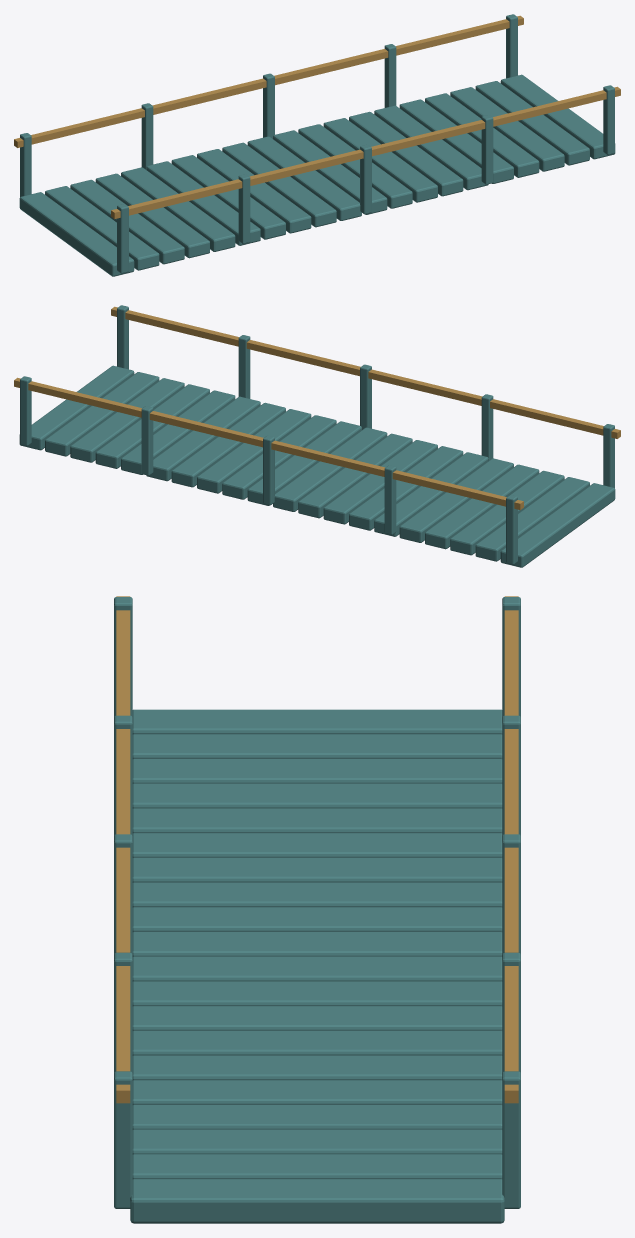
File: bridge_refined.glb
The picture shows the model from 3 angles, top to bottom: view 1: azimuth 30°, elevation 25°; view 2: azimuth 150°, elevation 25°; view 3: azimuth 270°, elevation 25°; orthographic projection. The views are drawn at different scales.
Visible parts, largest first — view 1: bridge_refined; view 2: bridge_refined; view 3: bridge_refined.
Part boxes in pixels (<box>): bridge_refined: <box>14,14,620,276</box>; bridge_refined: <box>14,305,620,567</box>; bridge_refined: <box>114,596,520,1223</box>.
Size of the model in its own units: 5 by 0.67 by 1.74.
